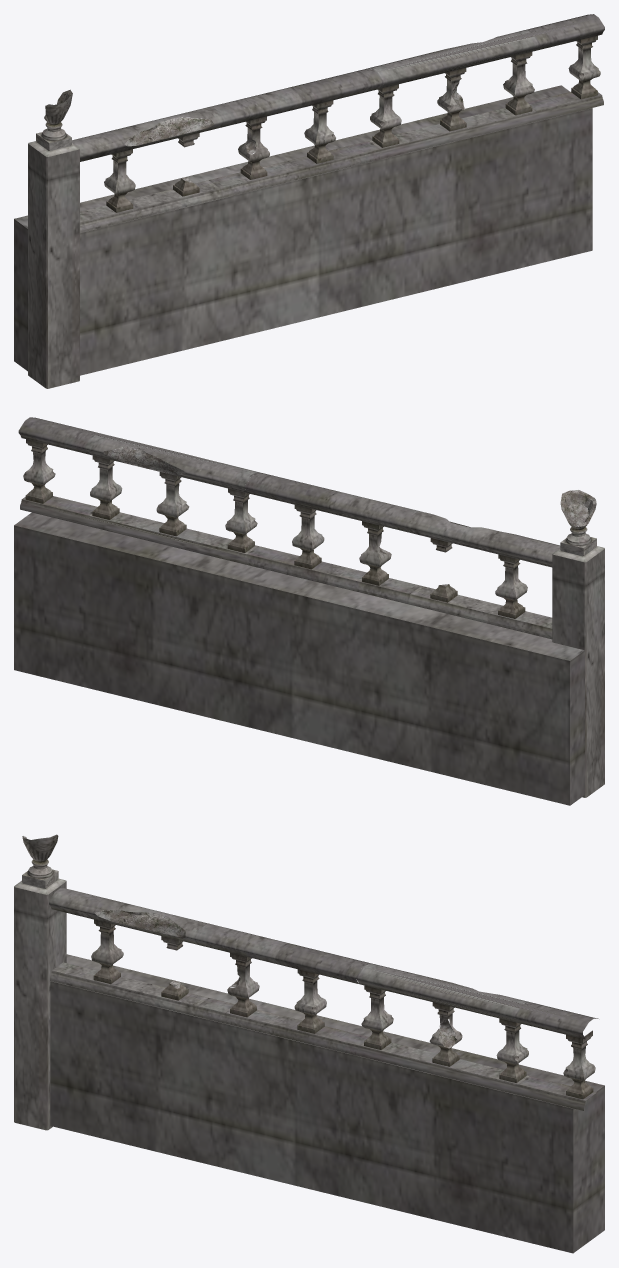
Rendered from eso_ss14_ruins9-transformed.glb.
The picture shows the model from 3 angles, top to bottom: view 1: azimuth 30°, elevation 25°; view 2: azimuth 150°, elevation 25°; view 3: azimuth 330°, elevation 25°; orthographic projection.
Visible parts, largest first — view 1: default; view 2: default; view 3: default.
Boxes of the visible parts, <box> form: default: <box>14,14,604,388</box>; default: <box>14,417,604,805</box>; default: <box>14,834,604,1253</box>.
Size of the model in its own units: 8.98 by 4.36 by 0.9441.
Materials: 2 (2 with a texture image).
